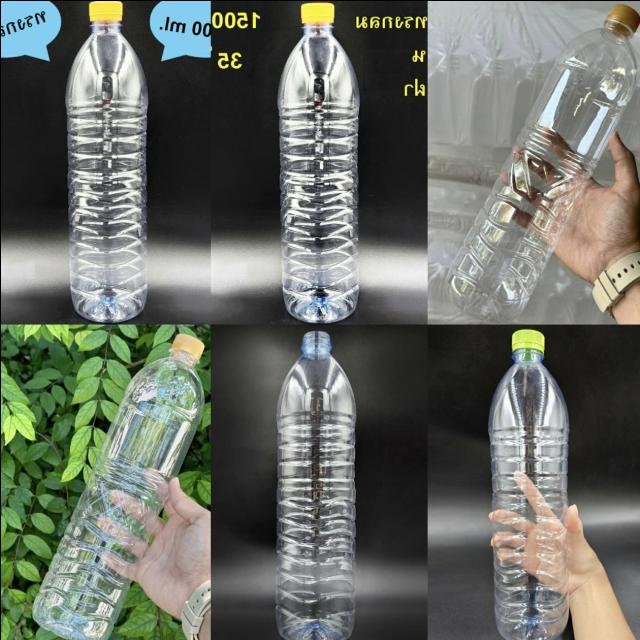plastik: (445, 4, 638, 321), (32, 333, 203, 640), (276, 2, 359, 323), (64, 0, 147, 321), (487, 329, 567, 640), (275, 330, 355, 640)
